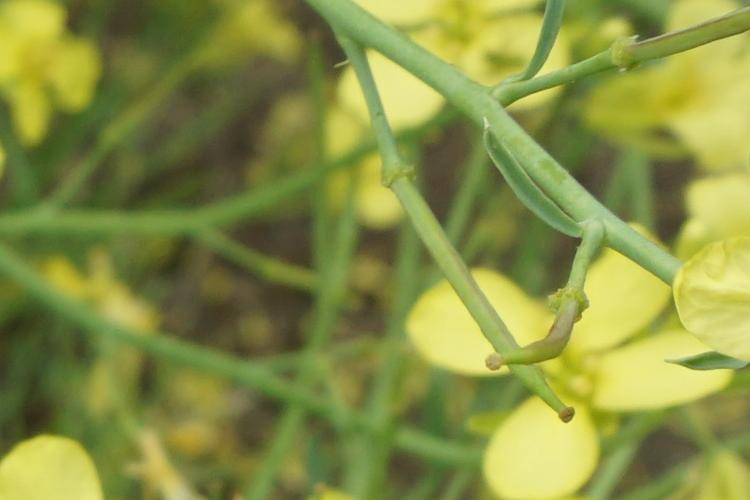pod: (387, 196, 577, 436), (490, 229, 605, 380)
yellow: (434, 253, 716, 479)
